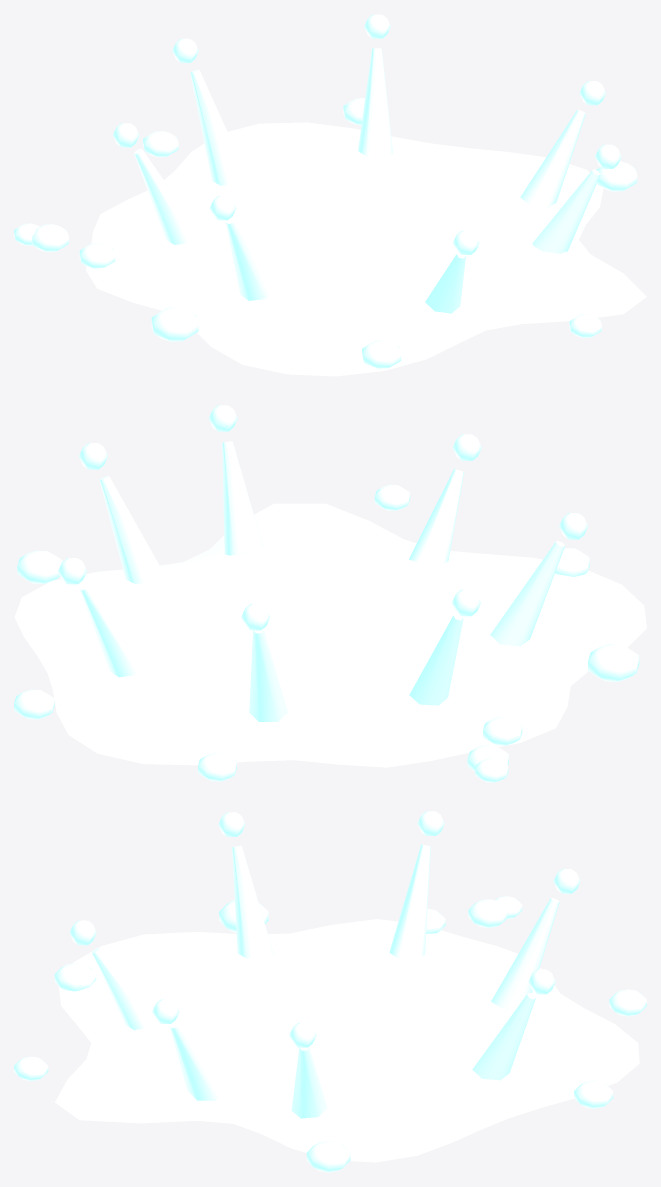
File: spill.glb
3 renders of one model, top to bottom at view 1: azimuth 30°, elevation 25°; view 2: azimuth 150°, elevation 25°; view 3: azimuth 270°, elevation 25°, orthographic. The views are drawn at different scales.
Visible parts, largest first — view 1: spill; view 2: spill; view 3: spill.
Boxes of the visible parts, left/top/right/bottom form: spill: left=14, top=14, right=646, bottom=376; spill: left=14, top=405, right=646, bottom=782; spill: left=14, top=811, right=646, bottom=1172.
Size of the model in its own units: 1.01 by 0.2577 by 1.02.
